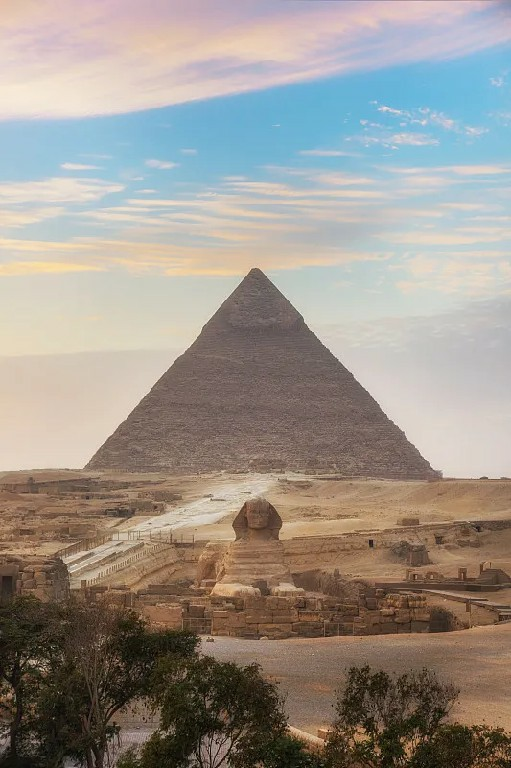Pyramid: (84, 269, 441, 477)
